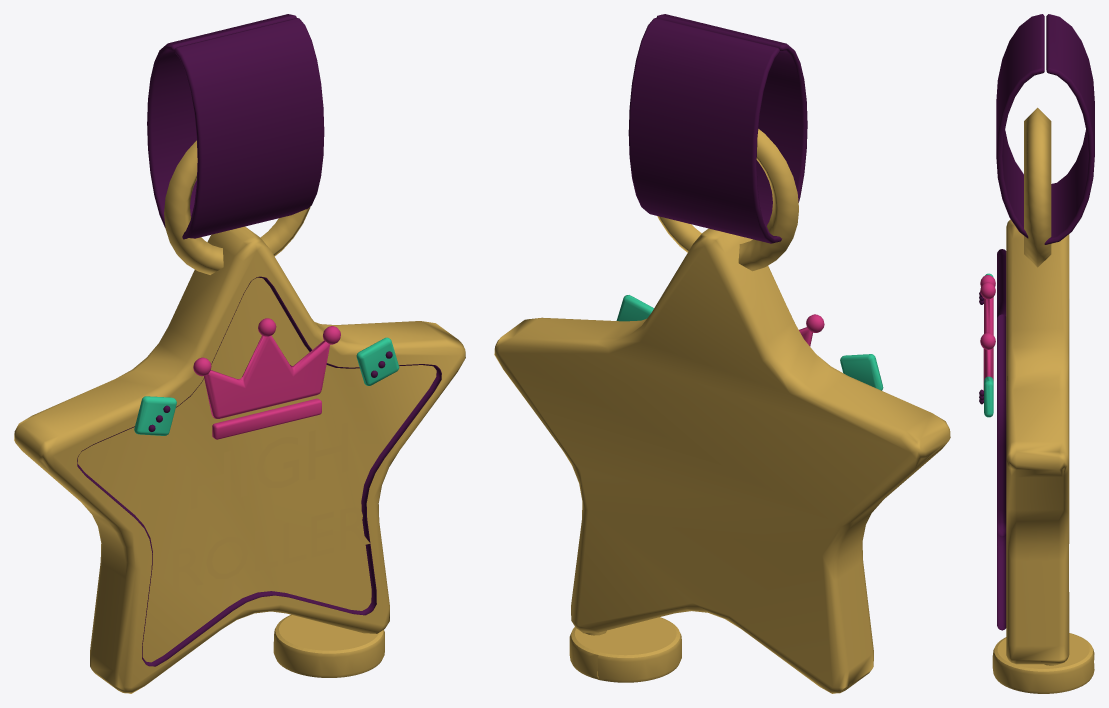
Rendered from high_roller.glb.
The picture shows the model from 3 angles, left to right: view 1: azimuth 30°, elevation 25°; view 2: azimuth 150°, elevation 25°; view 3: azimuth 270°, elevation 25°; orthographic projection. The views are drawn at different scales.
Parts seen in each view (by area): view 1: high_roller_brass, high_roller_plum, high_roller_pink, preserved_lettering, high_roller_mint; view 2: high_roller_brass, high_roller_plum, high_roller_mint; view 3: high_roller_brass, high_roller_plum, high_roller_pink, high_roller_mint.
Boxes of the visible parts, x1,y1,x2,y2 form: high_roller_brass: (14, 140, 465, 693); high_roller_plum: (77, 14, 441, 666); high_roller_pink: (193, 318, 340, 439); preserved_lettering: (173, 422, 370, 591); high_roller_mint: (134, 337, 399, 435); high_roller_brass: (494, 129, 950, 693); high_roller_plum: (628, 14, 807, 243); high_roller_mint: (616, 295, 883, 390); high_roller_brass: (992, 107, 1094, 693); high_roller_plum: (979, 14, 1094, 630); high_roller_pink: (980, 275, 995, 390); high_roller_mint: (984, 273, 993, 417).
Size of the model in its own units: 0.517 by 0.75 by 0.1331.
